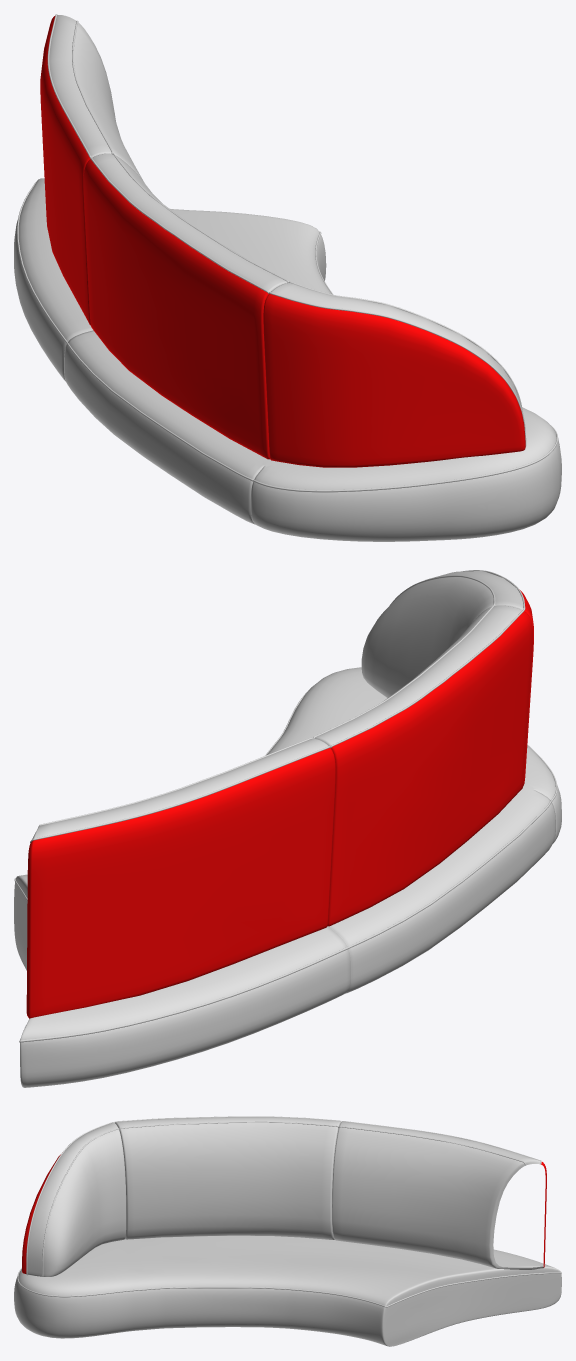
Rendered from levante_m_female_mirror.gltf.
3 renders of one model, top to bottom at view 1: azimuth 30°, elevation 25°; view 2: azimuth 150°, elevation 25°; view 3: azimuth 270°, elevation 25°, orthographic. The views are drawn at different scales.
Visible parts, largest first — view 1: levante_m_female001; view 2: levante_m_female001; view 3: levante_m_female001.
Boxes of the visible parts, box(x1,y1,x2,y2) form: levante_m_female001: box(14, 14, 561, 541); levante_m_female001: box(14, 570, 561, 1087); levante_m_female001: box(14, 1116, 561, 1346).
Size of the model in its own units: 0.9371 by 0.6989 by 2.29.
